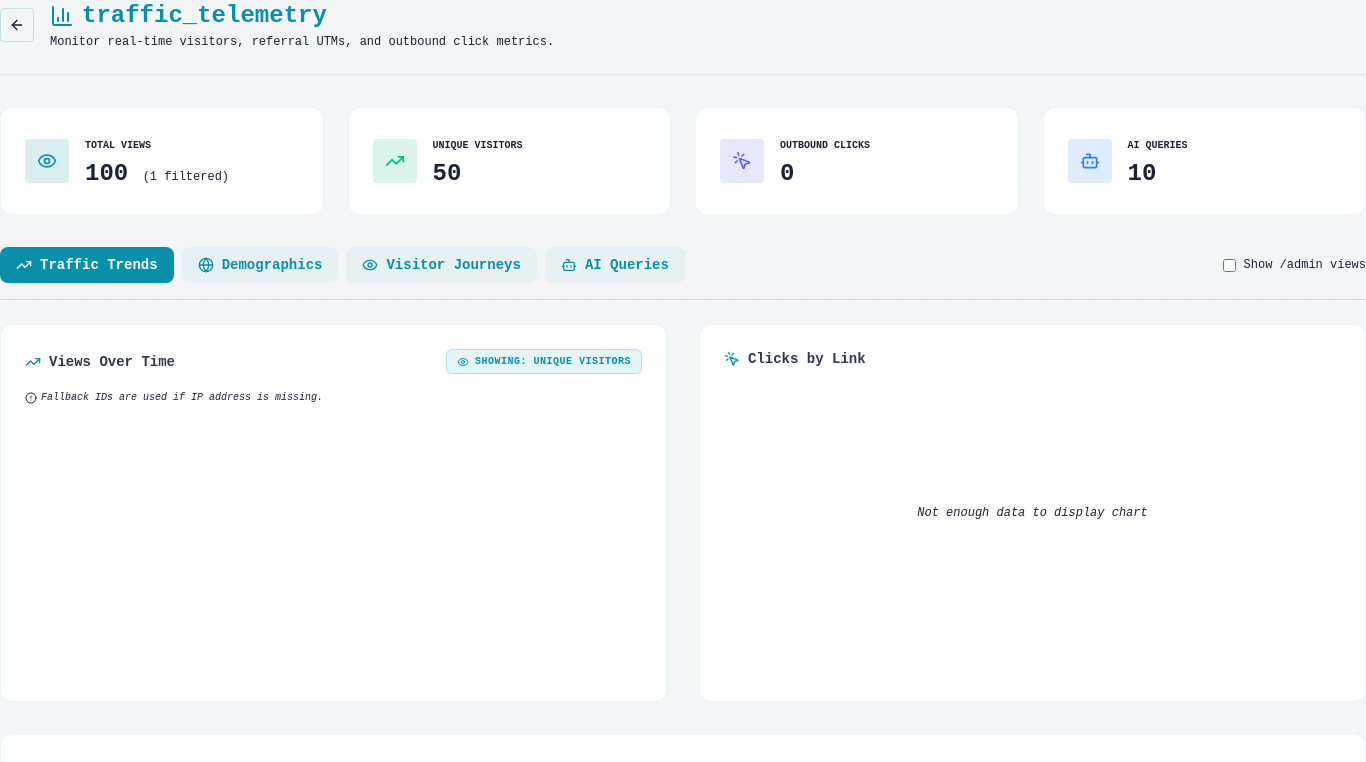
Test: AnalyticsPage › renders AI Queries tab and data
Expected: the heading "traffic_telemetry" is shown, [50,2,327,29]
Click the button "AI Queries" at (615, 265), box [545,247,685,283]
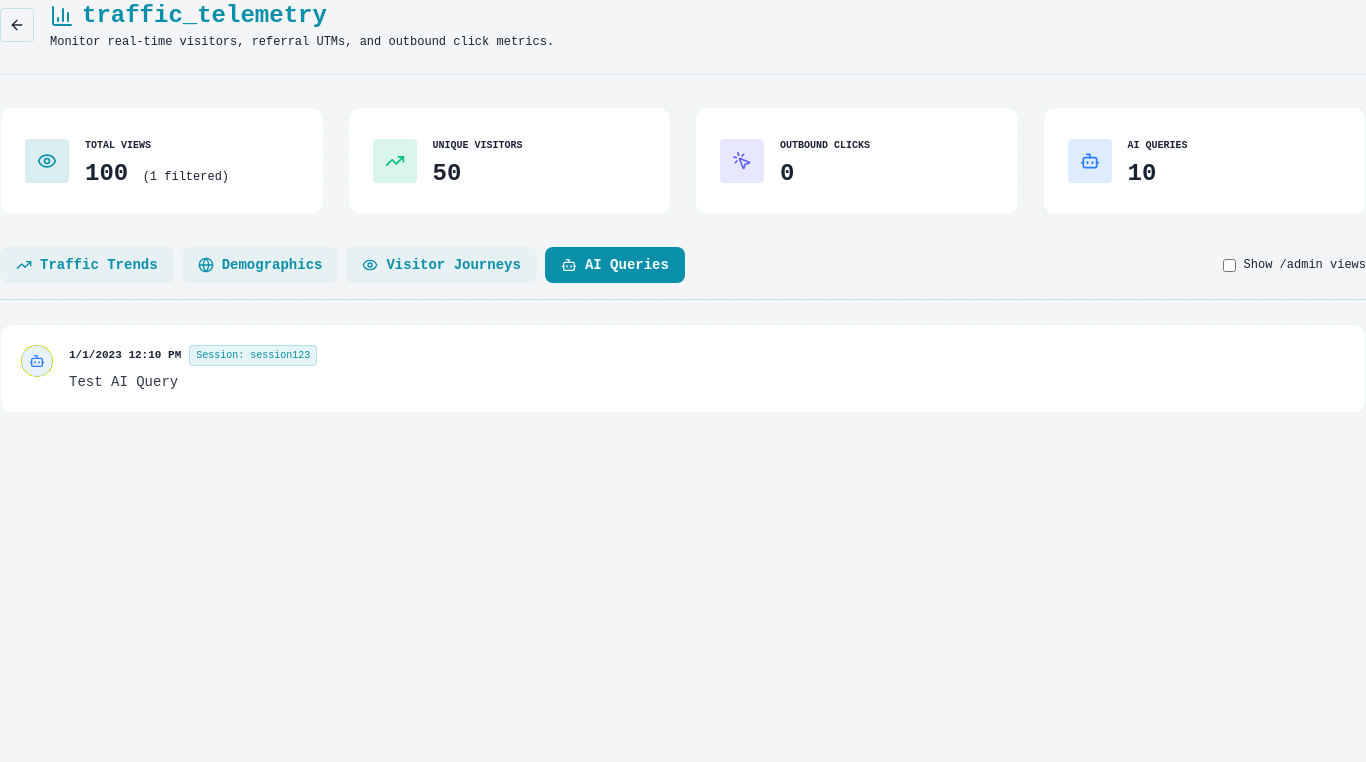
Result: the text "Test AI Query" is shown at [69,374,178,390]
Result: the text "Session: session123" is shown at [189,345,317,366]
